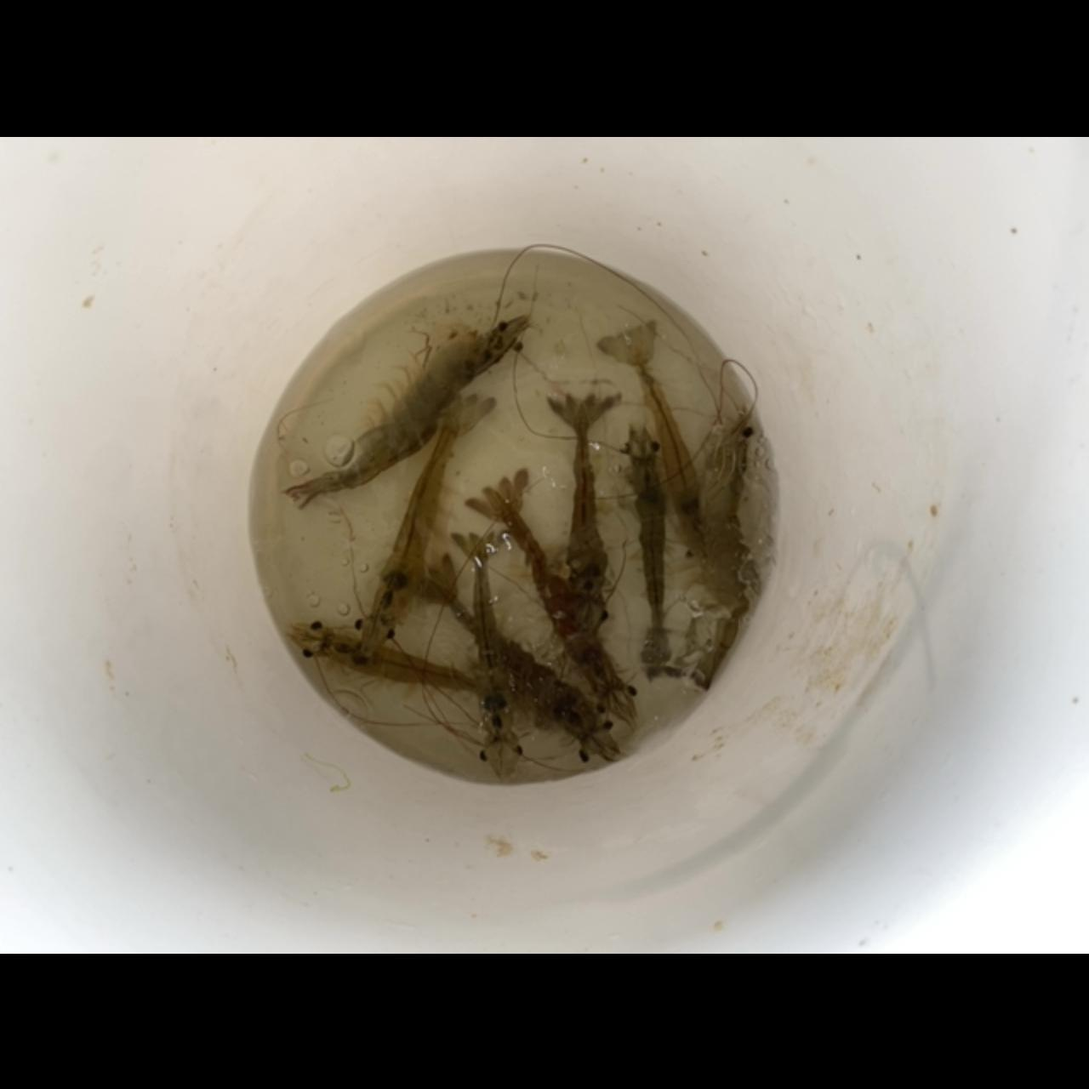side_shrimp: (298, 328, 518, 496), (689, 446, 749, 678)
top_shrimp: (431, 573, 591, 742), (493, 488, 616, 694), (369, 397, 462, 627), (628, 332, 712, 544), (320, 629, 522, 697), (566, 401, 606, 613), (629, 453, 666, 669), (473, 538, 512, 742)
